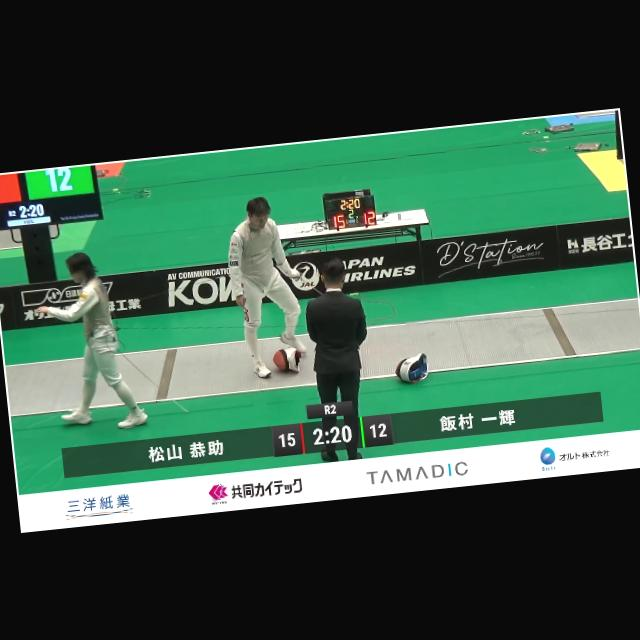blade: (118, 342, 193, 423), (286, 266, 324, 299)
